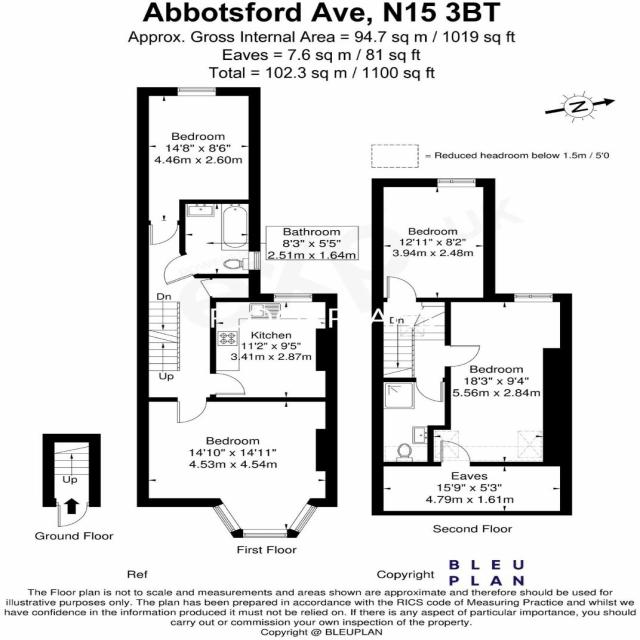DOOR: (163, 253, 200, 286), (175, 397, 208, 425), (439, 439, 471, 467), (209, 373, 246, 396), (386, 275, 417, 302), (444, 345, 481, 367), (148, 220, 179, 246), (415, 377, 445, 403)
ROOM: (136, 397, 338, 539), (427, 293, 573, 467), (136, 87, 261, 245), (371, 178, 496, 303), (210, 293, 338, 402)
WINDOW: (288, 502, 319, 534), (212, 503, 242, 533), (242, 529, 288, 538), (436, 178, 477, 188), (513, 293, 553, 303), (273, 293, 313, 302), (177, 87, 217, 96), (248, 251, 261, 271)
